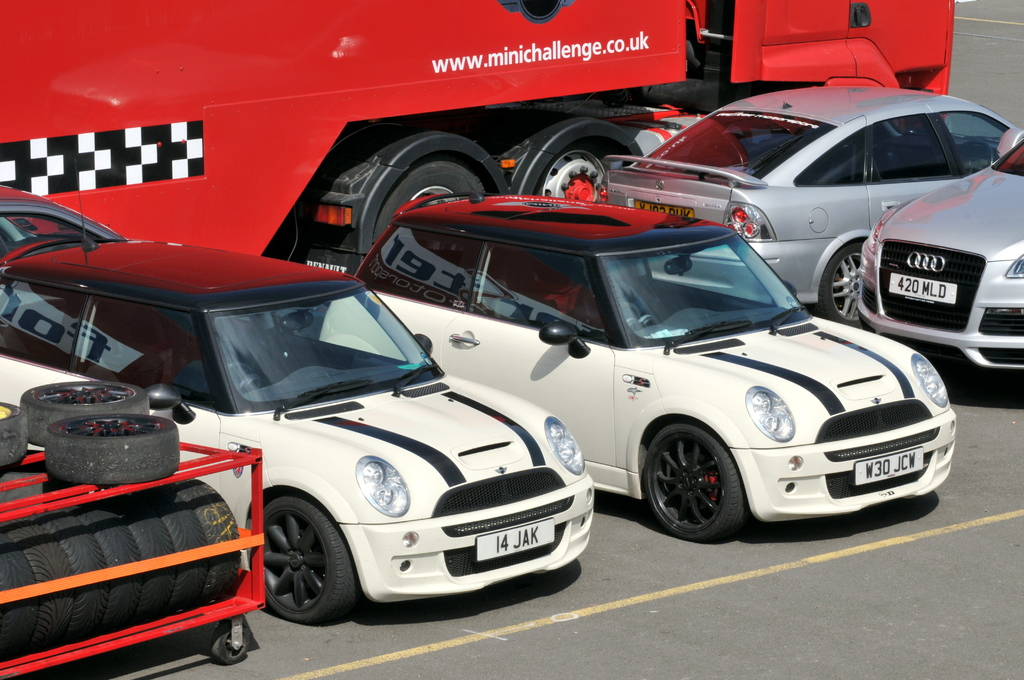Car: (0, 86, 1023, 628)
